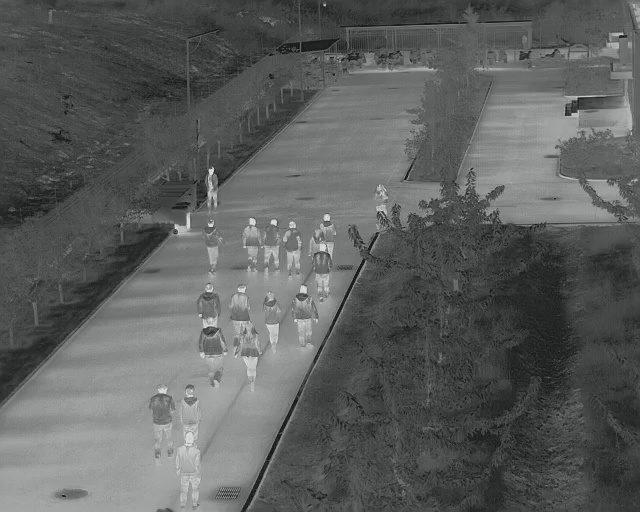person: (173, 432, 203, 511), (146, 383, 174, 464), (198, 316, 227, 387), (290, 285, 318, 352), (235, 321, 261, 392), (261, 290, 282, 354), (201, 218, 223, 277), (261, 217, 282, 276), (228, 284, 250, 339), (311, 242, 331, 302), (240, 216, 260, 274), (178, 384, 201, 433), (282, 221, 301, 278), (195, 282, 220, 325), (313, 211, 336, 250), (204, 165, 219, 212), (373, 183, 389, 211)
